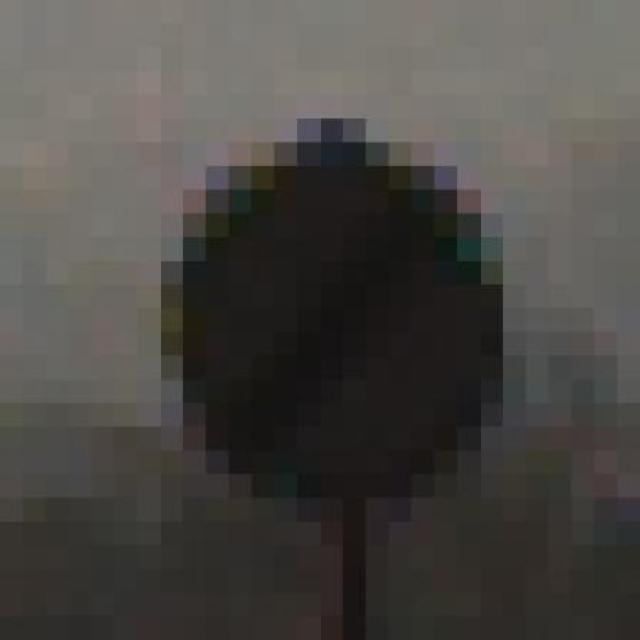End of all speed and passing limits: (137, 95, 549, 522)
